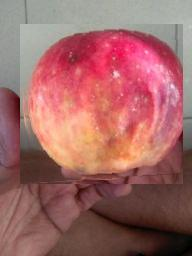Apple Semirotten: (20, 25, 183, 185)
